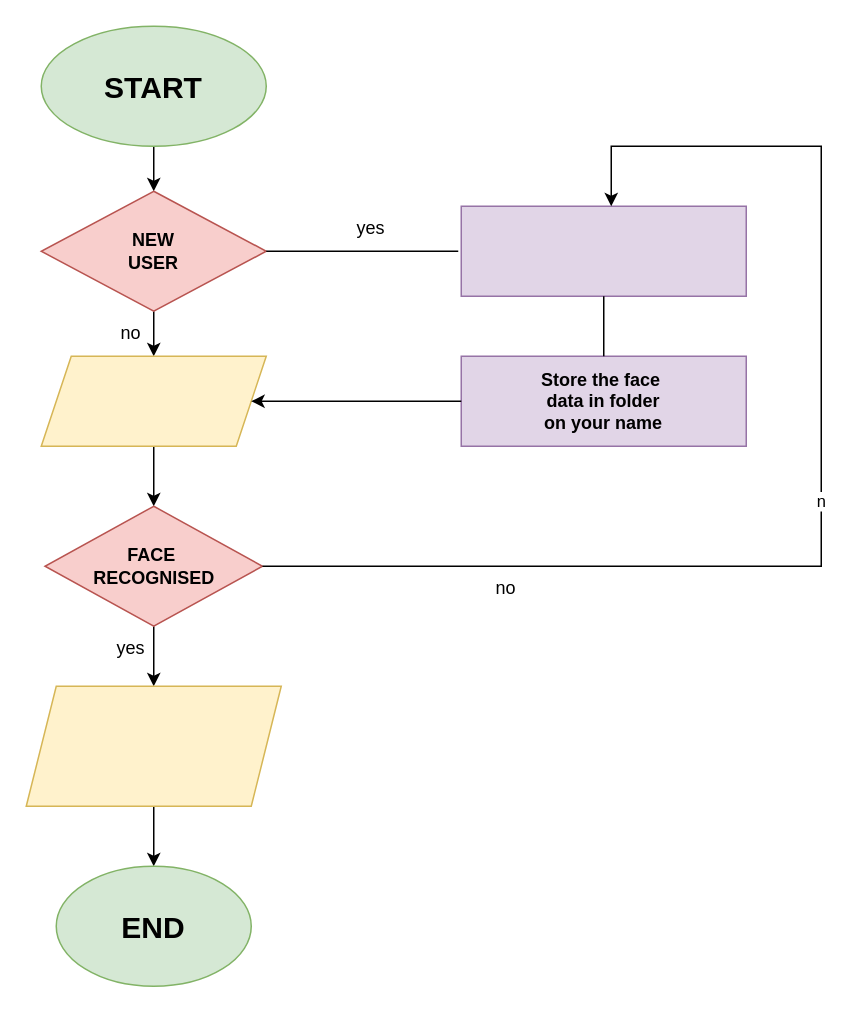
This 860x1013 diagram has some shape labels left out. Here are the shapes that lost their labels. From the top down, the box of each, then its label:
(460, 205, 746, 296): GIVE YOUR PHOTOGRAPH
(40, 355, 266, 446): RECOGNIZE THE FACE
(25, 685, 281, 806): Stored in csv file with registration number and date time of entry
